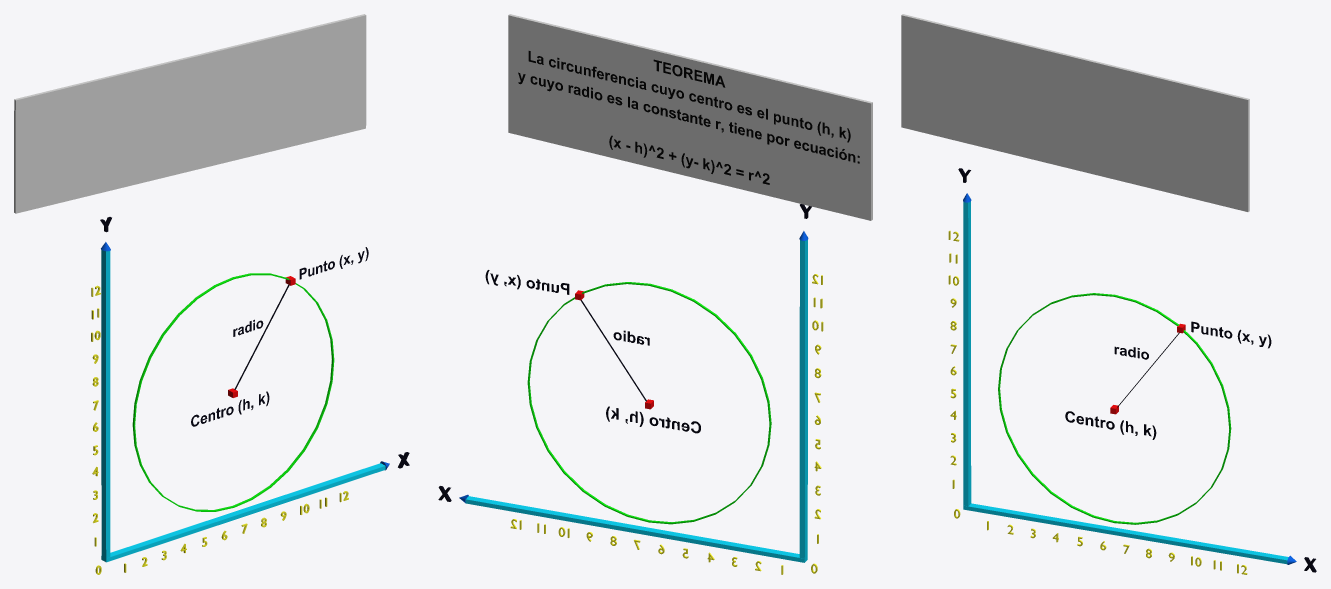
Rendered from e-circunferencia.fbx.
3 views of the same model, side by side, from view 1: azimuth 30°, elevation 25°; view 2: azimuth 150°, elevation 25°; view 3: azimuth 330°, elevation 25° (orthographic). The views are drawn at different scales.
Parts seen in each view (by area): view 1: Cubo.002, Cubo.001, Cubo, Surface; view 2: Cubo.002, Text.025, Cubo, Cubo.001, Surface, Text.027; view 3: Cubo.002, Cubo, Cubo.001, Surface.
Part boxes in pixels (left/top/right/bottom): Cubo.002: left=14, top=14, right=366, bottom=213; Cubo.001: left=101, top=250, right=110, bottom=559; Cubo: left=101, top=463, right=385, bottom=562; Surface: left=132, top=273, right=334, bottom=511; Cubo.002: left=508, top=14, right=872, bottom=220; Text.025: left=518, top=51, right=859, bottom=184; Cubo: left=465, top=496, right=807, bottom=562; Cubo.001: left=799, top=240, right=807, bottom=559; Surface: left=527, top=282, right=771, bottom=524; Text.027: left=606, top=406, right=700, bottom=433; Cubo.002: left=901, top=14, right=1249, bottom=211; Cubo: left=963, top=503, right=1288, bottom=564; Cubo.001: left=963, top=201, right=971, bottom=506; Surface: left=998, top=293, right=1231, bottom=524.
Bounding box in the file's own units: 374 × 429 × 46.66.
